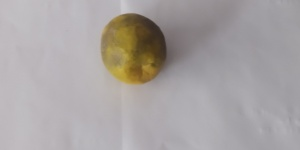BAD: (100, 12, 170, 85)
